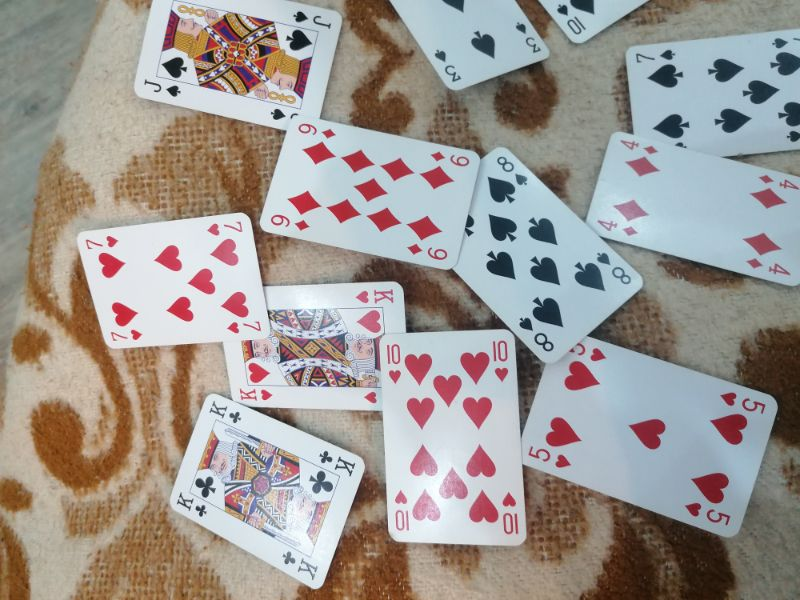3s: (431, 47, 465, 85), (513, 20, 543, 55)
4d: (753, 168, 799, 195), (743, 254, 791, 279), (593, 215, 641, 239), (616, 134, 658, 157)
5h: (683, 498, 735, 529), (717, 387, 767, 416), (526, 442, 572, 471)
7h: (224, 316, 263, 339), (82, 232, 120, 255), (205, 218, 245, 239), (108, 326, 144, 345)
7s: (633, 45, 678, 65)
8s: (515, 314, 556, 353), (593, 247, 633, 286), (494, 153, 530, 187)
9d: (296, 120, 340, 142), (429, 148, 472, 169), (269, 212, 311, 233), (407, 241, 449, 262)
Js: (290, 8, 335, 32), (140, 76, 185, 100)
Kc: (314, 446, 359, 478), (281, 548, 321, 583), (175, 490, 210, 519), (207, 400, 245, 426)
Kh: (354, 285, 398, 305), (234, 387, 277, 403)
Th: (488, 337, 512, 384), (499, 489, 520, 536), (390, 488, 412, 532), (383, 342, 404, 385)
Ts: (555, 1, 588, 39)
